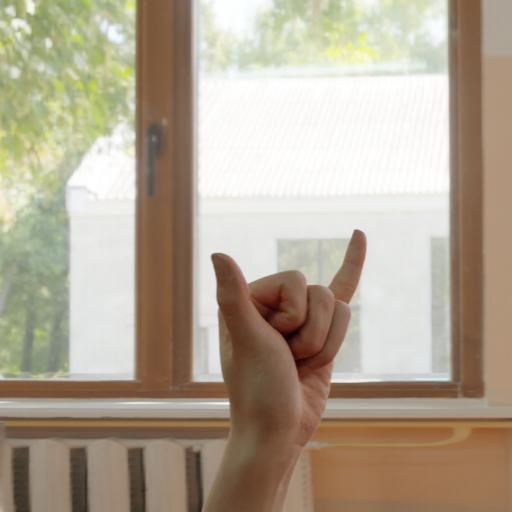Y: (179, 202, 415, 512)
